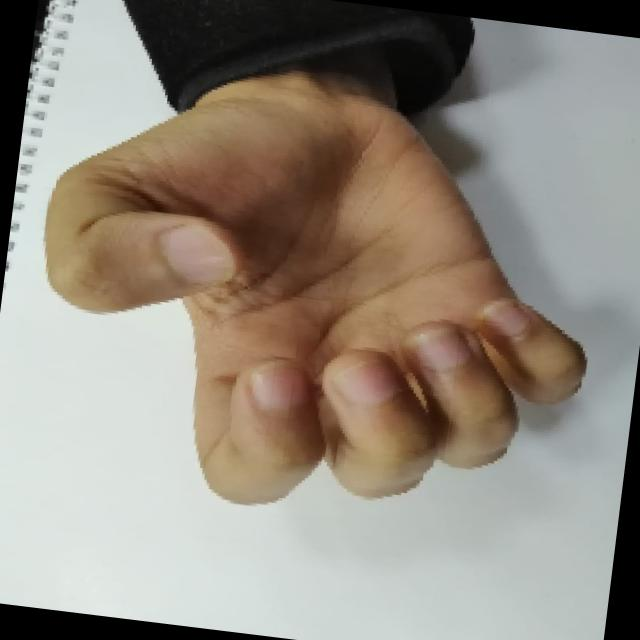Nail: (158, 222, 234, 283), (334, 359, 398, 403), (251, 360, 306, 409), (413, 328, 469, 370), (483, 298, 525, 335)
